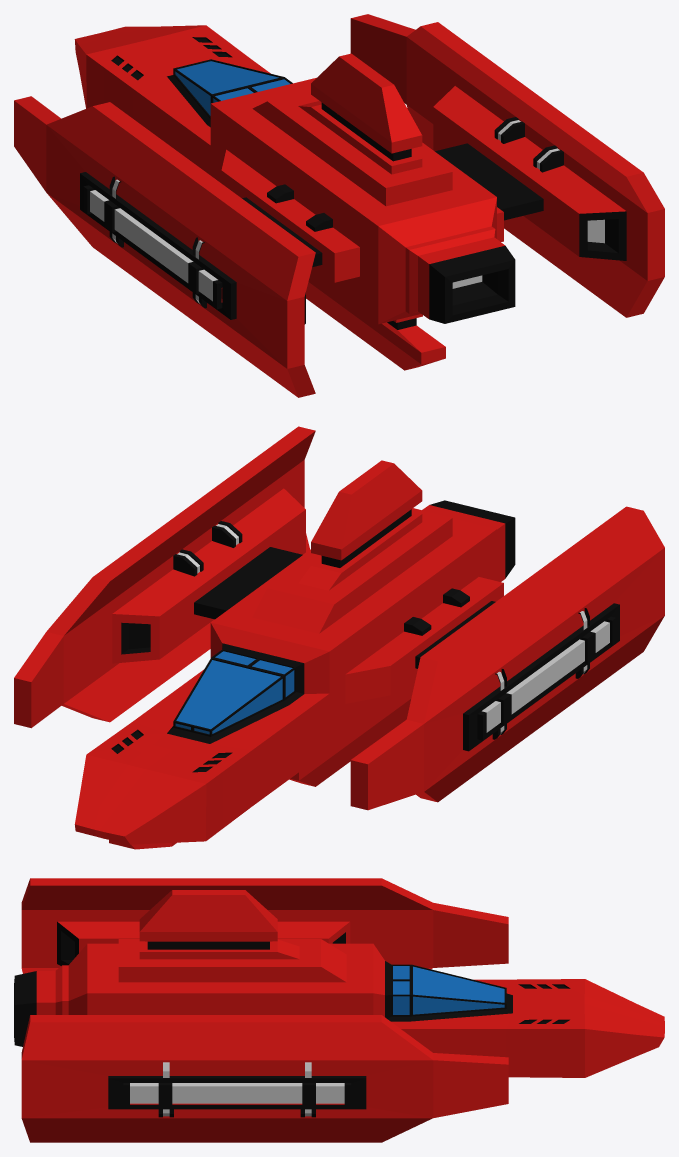
File: Starship_Collection1.obj
3 renders of one model, top to bottom at view 1: azimuth 30°, elevation 25°; view 2: azimuth 150°, elevation 25°; view 3: azimuth 270°, elevation 25°, orthographic. The views are drawn at different scales.
Visible parts, largest first — view 1: Cube001, Cube001_1, Cube001_3, Cube001_4, Cube001_2; view 2: Cube001, Cube001_1, Cube001_4, Cube001_3; view 3: Cube001, Cube001_1, Cube001_3, Cube001_4.
Boxes of the visible parts, bbox=[...] form: Cube001: bbox=[14, 14, 664, 397]; Cube001_1: bbox=[80, 37, 626, 329]; Cube001_3: bbox=[90, 120, 559, 303]; Cube001_4: bbox=[175, 61, 290, 115]; Cube001_2: bbox=[452, 219, 604, 288]; Cube001: bbox=[14, 426, 664, 849]; Cube001_1: bbox=[111, 500, 619, 772]; Cube001_4: bbox=[175, 651, 294, 734]; Cube001_3: bbox=[177, 524, 609, 734]; Cube001: bbox=[21, 878, 664, 1142]; Cube001_1: bbox=[14, 921, 570, 1117]; Cube001_3: bbox=[130, 1062, 344, 1116]; Cube001_4: bbox=[393, 966, 504, 1014].
Bounding box in the file's own units: 82.88 × 52.64 × 137.
